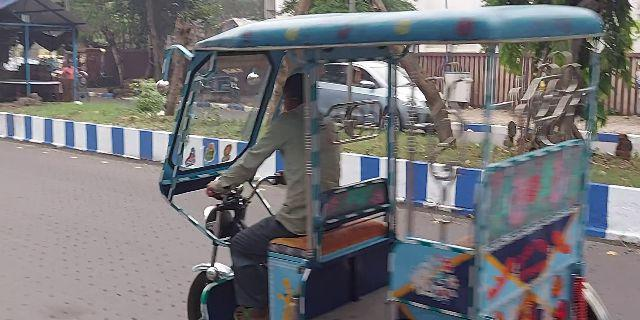Rickshaw: (157, 4, 599, 313)
